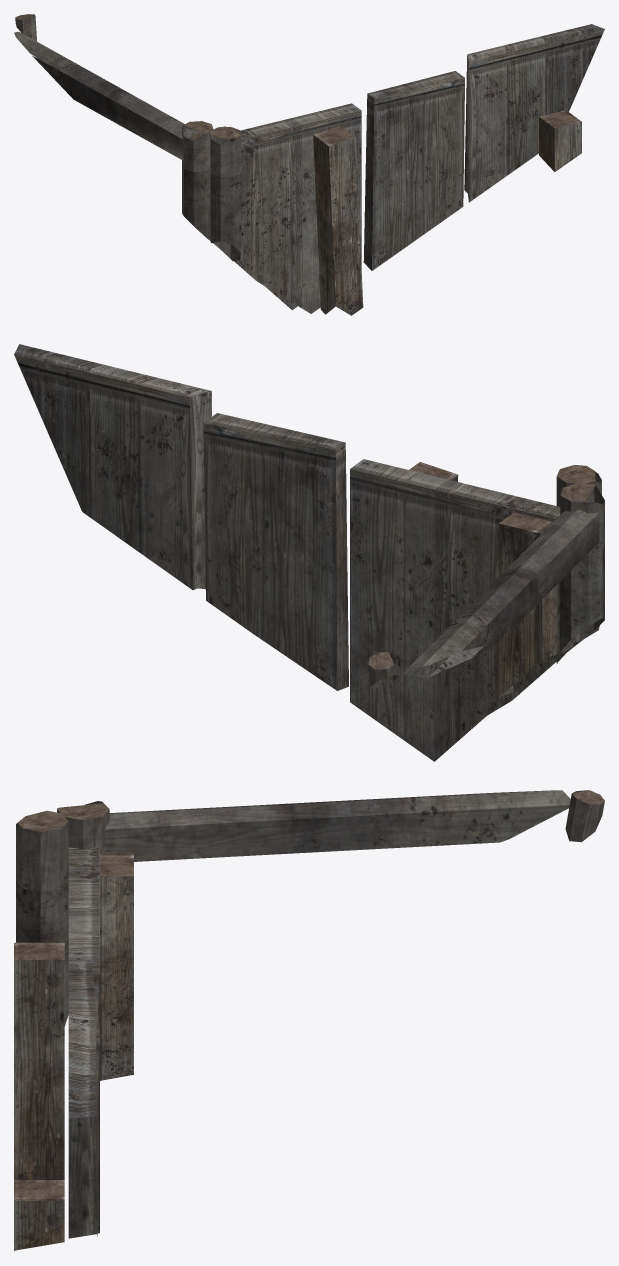
File: Wagon3_11.fbx
The picture shows the model from 3 angles, top to bottom: view 1: azimuth 30°, elevation 25°; view 2: azimuth 150°, elevation 25°; view 3: azimuth 270°, elevation 25°; orthographic projection. The views are drawn at different scales.
Parts seen in each view (by area): view 1: SM_Wagon03_DM.011; view 2: SM_Wagon03_DM.011; view 3: SM_Wagon03_DM.011.
Boxes of the visible parts, x1,y1,x2,y2 form: SM_Wagon03_DM.011: [14, 14, 604, 315]; SM_Wagon03_DM.011: [14, 344, 604, 761]; SM_Wagon03_DM.011: [14, 790, 604, 1250].
Bounding box in the file's own units: 12211 × 5647 × 8768.
